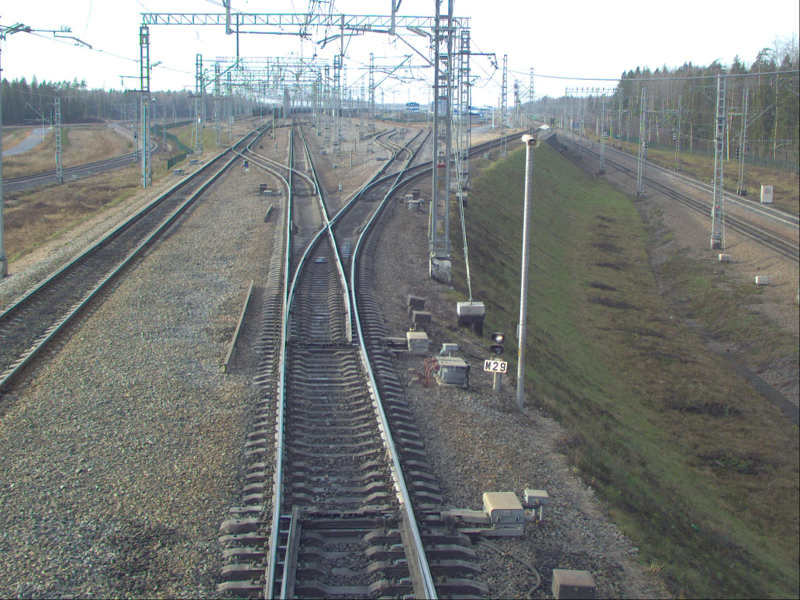left: (358, 170, 407, 194)
right: (282, 220, 367, 343), (286, 167, 322, 197)
